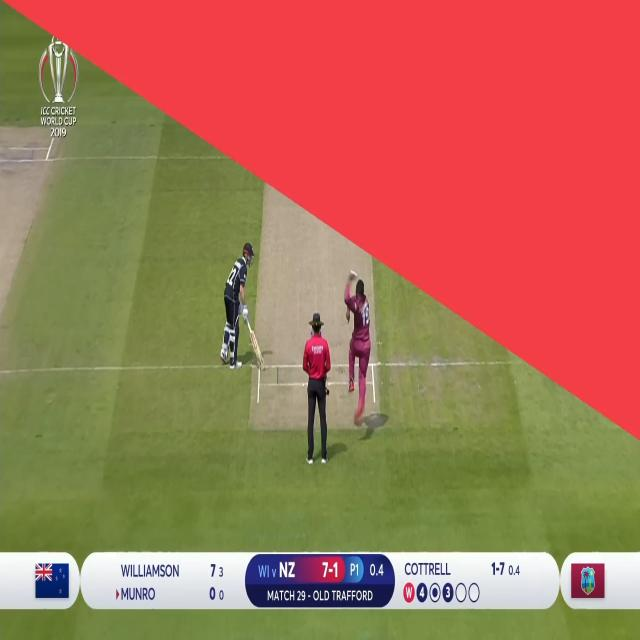ball: (348, 266, 360, 286)
